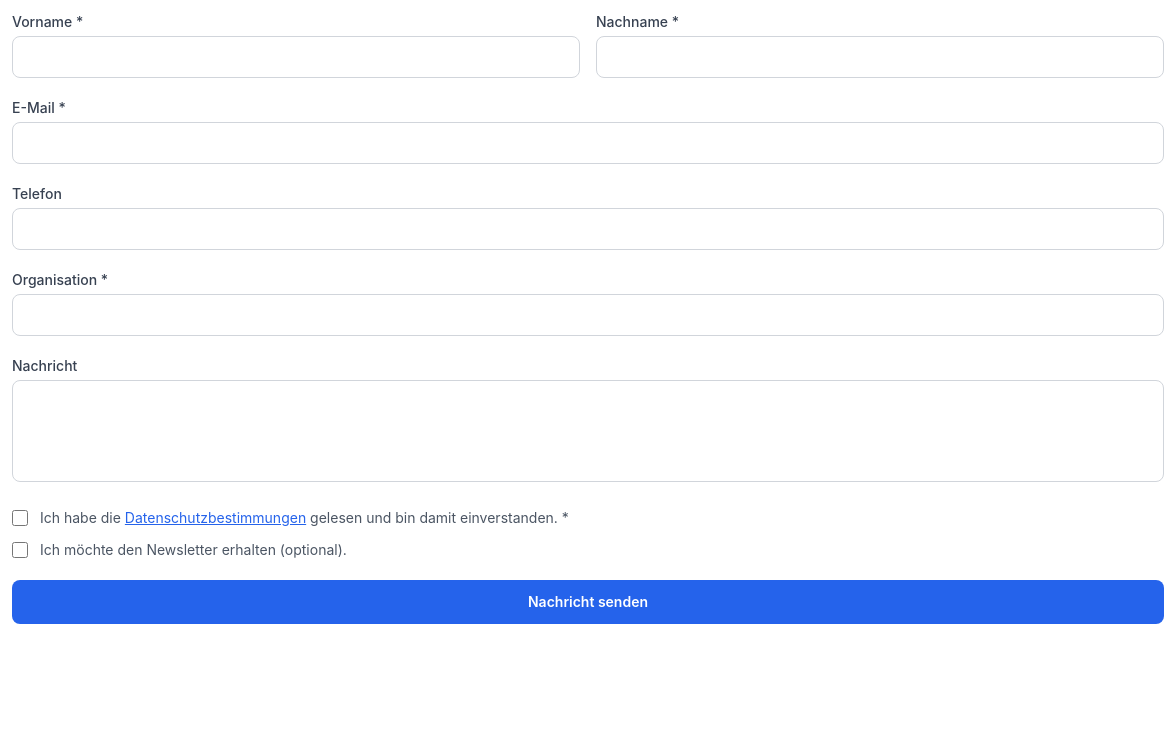
ContactForm › shows validation errors when submitting empty form
The width and height of the screenshot is (1176, 732).
What coordinates should you click on to do the following:
click the button "Nachricht senden"
I would click on:
 (588, 602)
Its box is [12,580,1164,624].
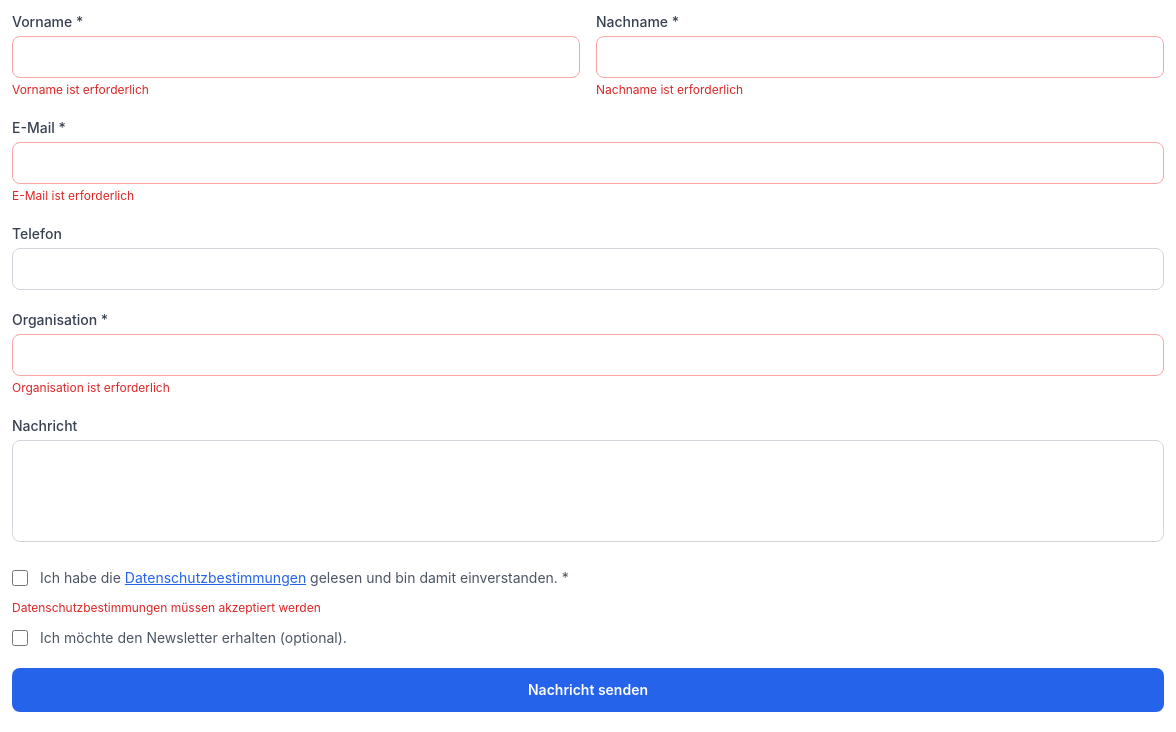
Expected: the text "Vorname ist erforderlich" is shown, [12,82,149,97]
